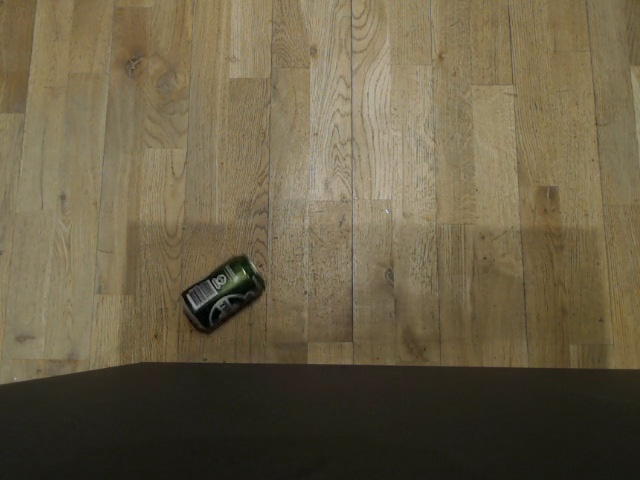beer: (174, 250, 272, 335)
